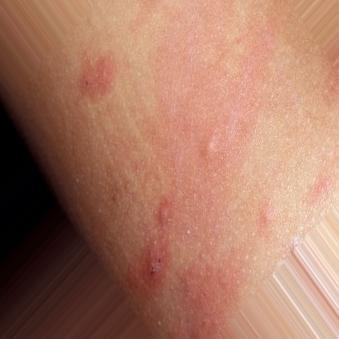Fleas: (148, 195, 190, 244), (77, 52, 116, 104), (141, 241, 167, 298), (201, 129, 230, 160), (255, 208, 279, 223)
